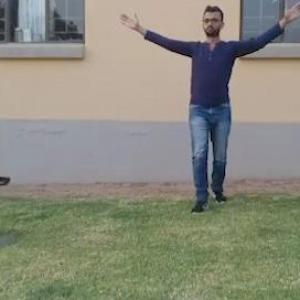takeoff: (121, 2, 300, 204)
